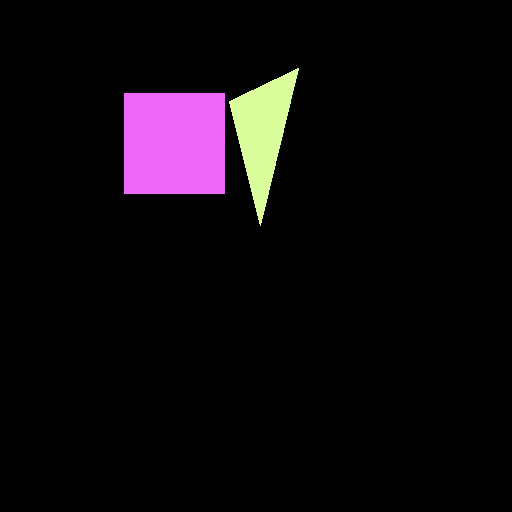square: (124, 93, 224, 193)
triangle: (229, 68, 298, 225)
